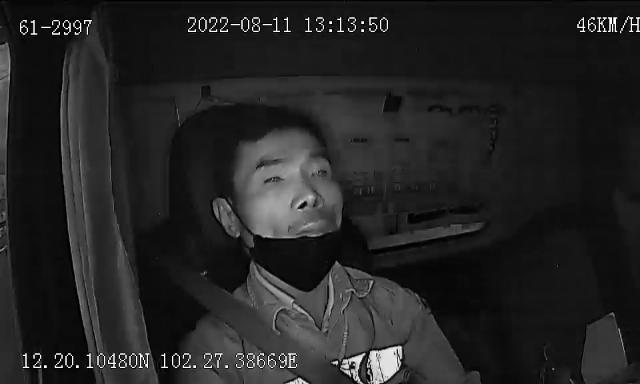SafeDriving: (418, 94, 478, 124), (258, 167, 290, 191), (306, 159, 334, 184)
Seatbelt: (170, 266, 368, 384)
